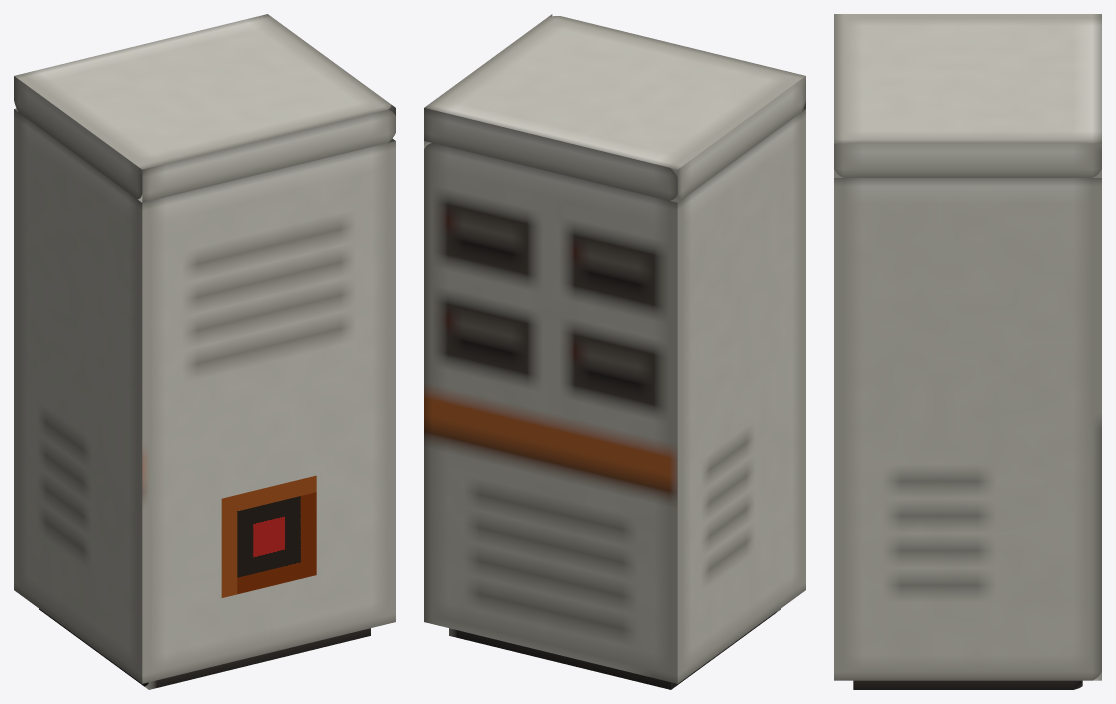
File: era5_compact_floppy_bay_double_sided.obj
3 views of the same model, side by side, from view 1: azimuth 30°, elevation 25°; view 2: azimuth 150°, elevation 25°; view 3: azimuth 270°, elevation 25° (orthographic). The views are drawn at different scales.
Visible parts, largest first — view 1: era5_compact_floppy_bay; view 2: era5_compact_floppy_bay; view 3: era5_compact_floppy_bay.
Part boxes in pixels (left/top/right/bottom): era5_compact_floppy_bay: left=14, top=14, right=395, bottom=689; era5_compact_floppy_bay: left=424, top=14, right=805, bottom=689; era5_compact_floppy_bay: left=834, top=14, right=1101, bottom=689.
Size of the model in its own units: 1 by 2 by 0.875.
